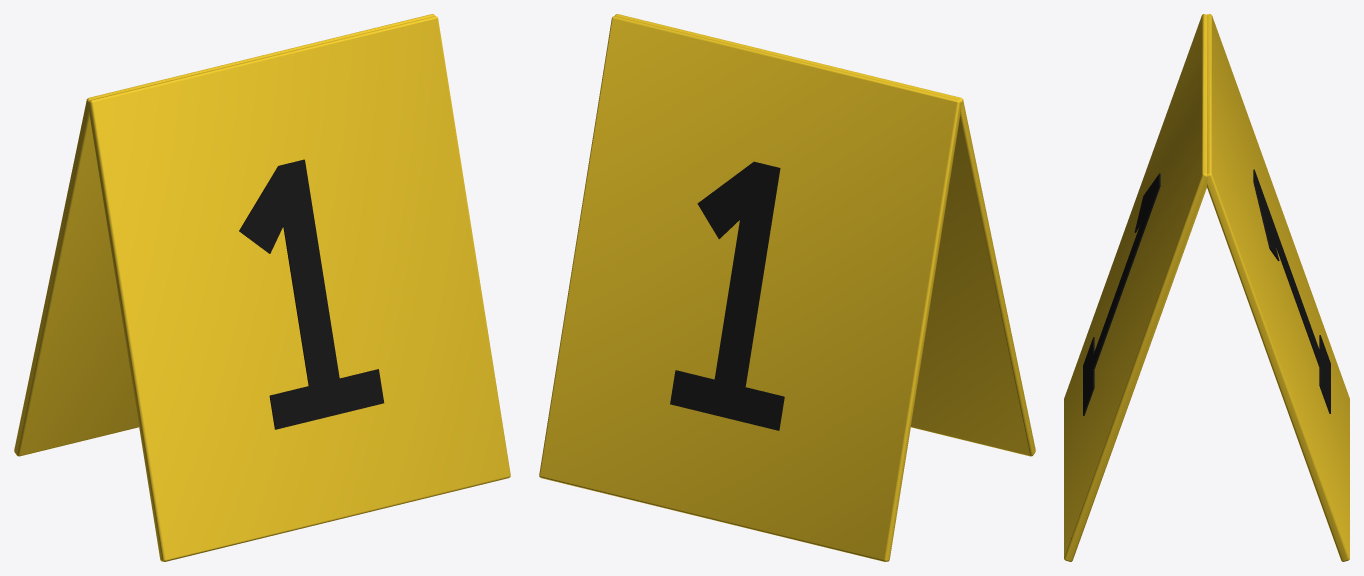
File: rpg-mansion-mystery-evidence-marker-01.glb
3 views of the same model, side by side, from view 1: azimuth 30°, elevation 25°; view 2: azimuth 150°, elevation 25°; view 3: azimuth 270°, elevation 25° (orthographic). The views are drawn at different scales.
Parts seen in each view (by area): view 1: rpg-mansion-mystery-evidence-marker-01; view 2: rpg-mansion-mystery-evidence-marker-01; view 3: rpg-mansion-mystery-evidence-marker-01.
Boxes of the visible parts, bbox=[...] form: rpg-mansion-mystery-evidence-marker-01: bbox=[14, 14, 510, 561]; rpg-mansion-mystery-evidence-marker-01: bbox=[539, 14, 1035, 561]; rpg-mansion-mystery-evidence-marker-01: bbox=[1064, 14, 1349, 561].
Size of the model in its own units: 0.08 by 0.09 by 0.06.
